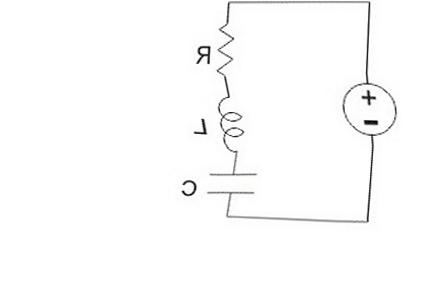Battery: (330, 66, 411, 149)
